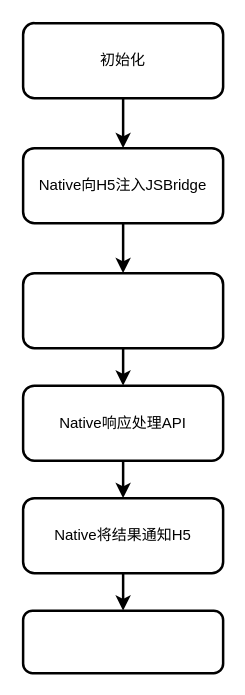
Image size: 245x695. Some labels were removed from this diagram. The shapes that lost their labels are listed below. From the top down, each one's centre as x and y in pixels, then its label:
point 122,310: H5调用原生的API
point 122,641: H5获得Native的结果
